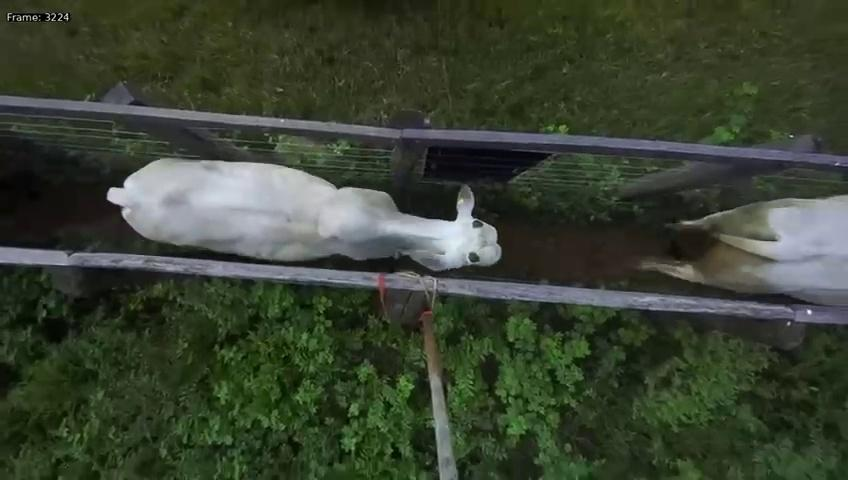cattle: (96, 150, 506, 280)
